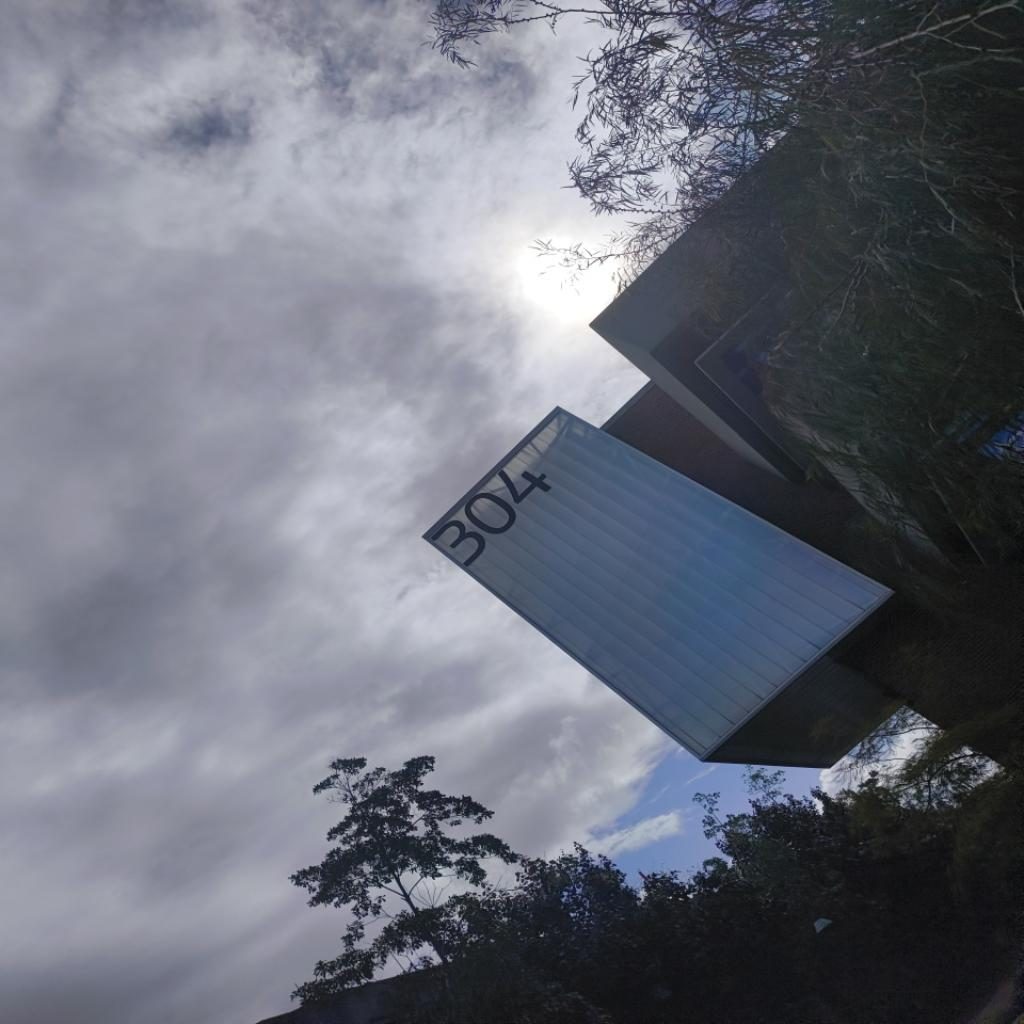BuildingCodes: (426, 452, 556, 570)
